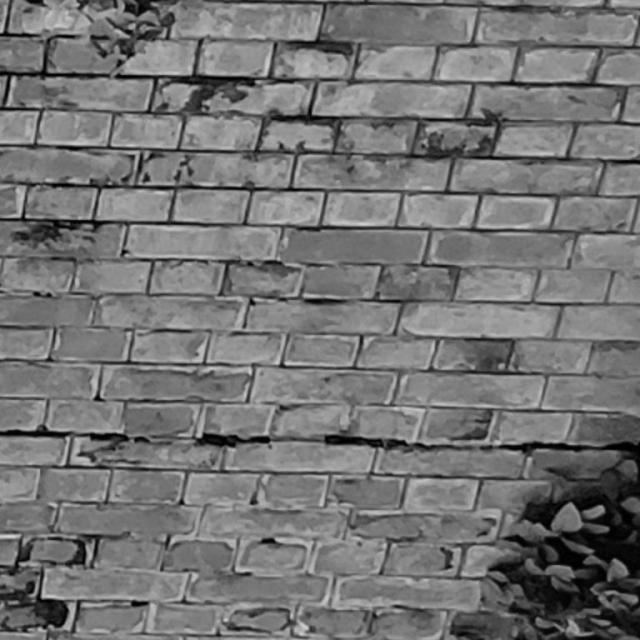crack: (1, 425, 640, 454)
